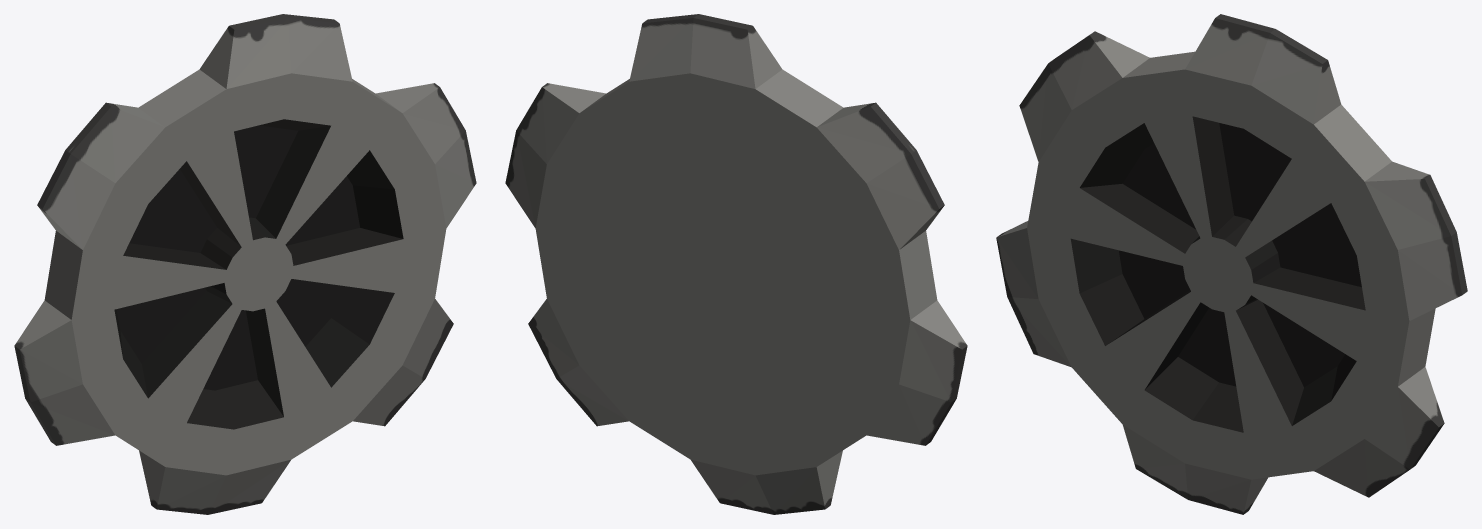
File: Gear.fbx
3 views of the same model, side by side, from view 1: azimuth 30°, elevation 25°; view 2: azimuth 150°, elevation 25°; view 3: azimuth 330°, elevation 25° (orthographic). The views are drawn at different scales.
Parts seen in each view (by area): view 1: Gear; view 2: Gear; view 3: Gear.
Part boxes in pixels (x1=…): Gear: x1=14, y1=14, x2=476, y2=514; Gear: x1=505, y1=14, x2=967, y2=514; Gear: x1=996, y1=14, x2=1467, y2=514.
Bounding box in the file's own units: 2.76 × 2.77 × 0.2832.
